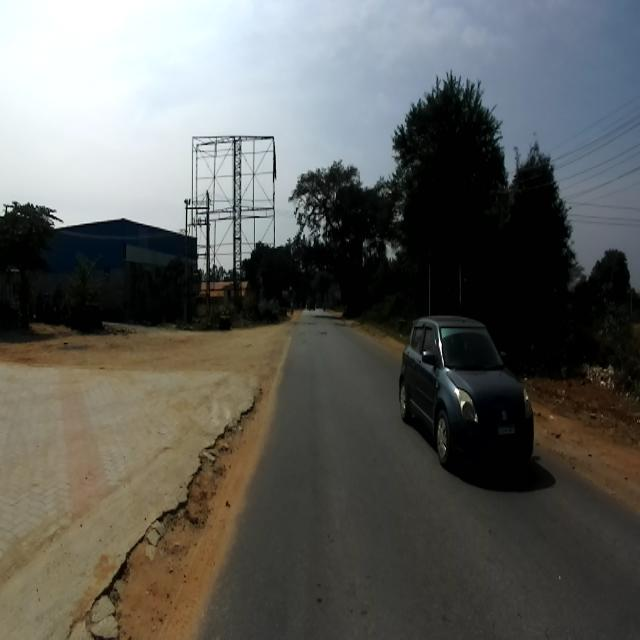car ahead at: (397, 314, 537, 488)
